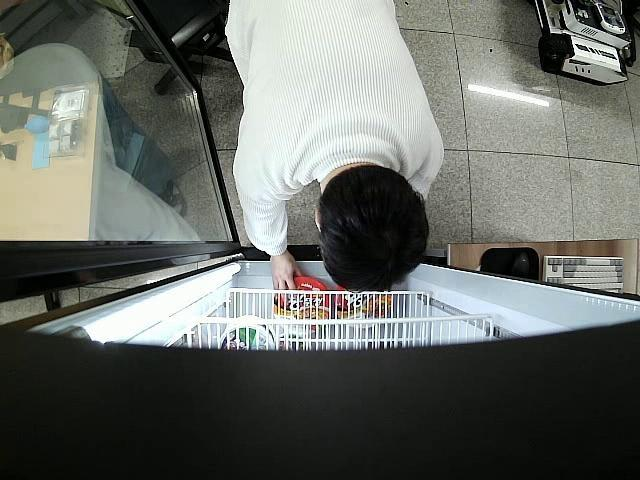10_wangTtukkeong: (274, 276, 328, 338)
